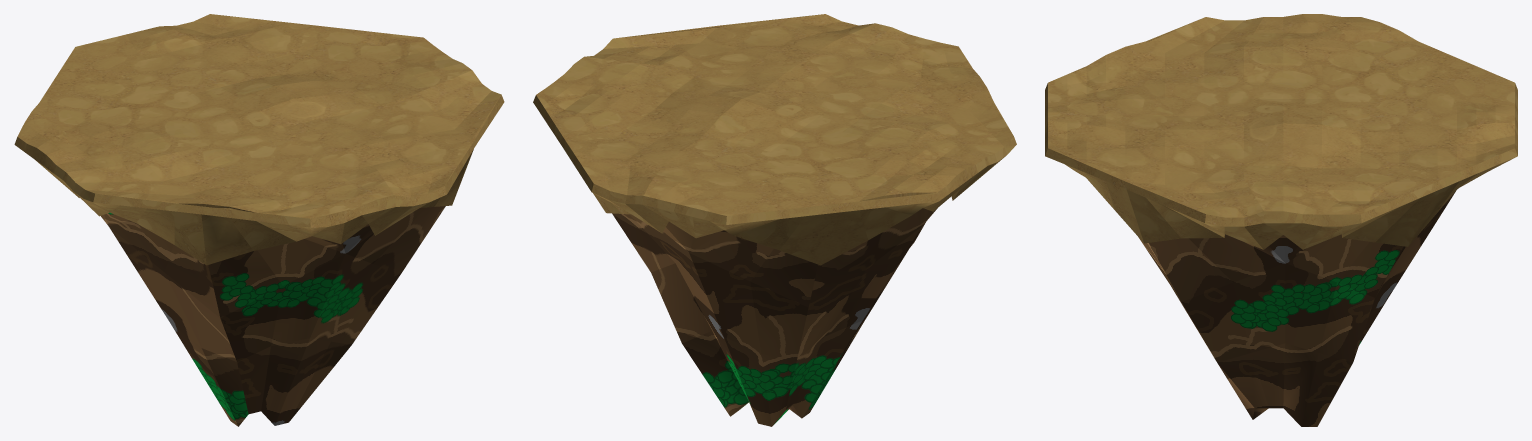
Rendered from Island2.fbx.
3 renders of one model, left to right at view 1: azimuth 30°, elevation 25°; view 2: azimuth 150°, elevation 25°; view 3: azimuth 270°, elevation 25°, orthographic.
Visible parts, largest first — view 1: Island_LOD0; view 2: Island_LOD0; view 3: Island_LOD0.
Part boxes in pixels (x1=…): Island_LOD0: x1=14, y1=14, x2=504, y2=426; Island_LOD0: x1=533, y1=14, x2=1016, y2=426; Island_LOD0: x1=1045, y1=14, x2=1517, y2=426.
Size of what is drawn, in the model's own units: 153 by 109 by 153.
Materials: 2 (2 with a texture image).
